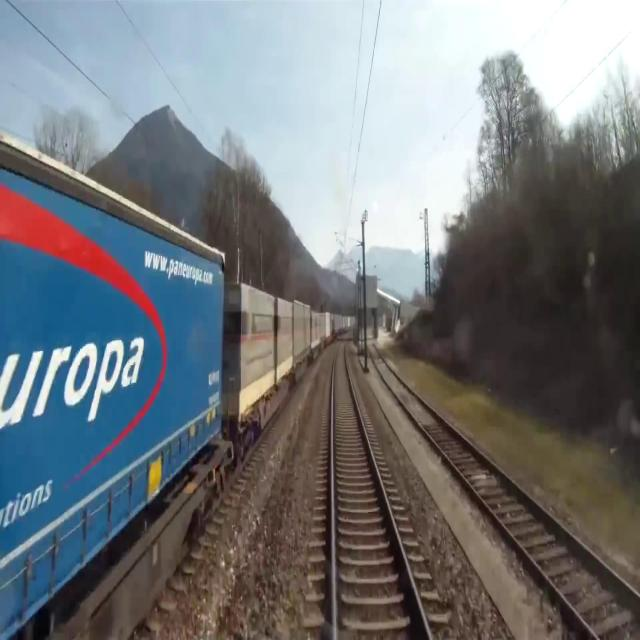rail-track: (369, 343, 640, 639)
